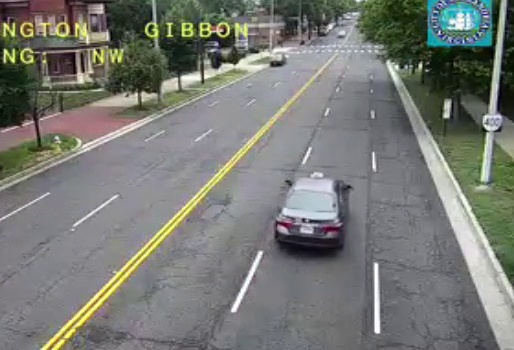car: (275, 177, 345, 247)
